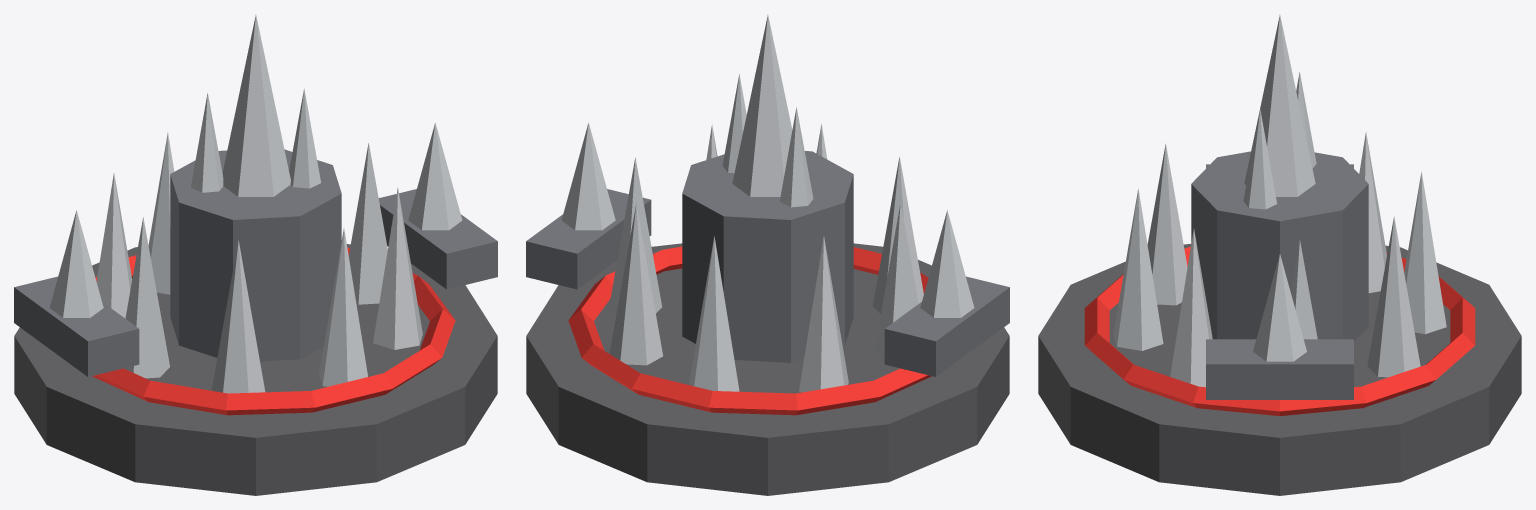
File: TD_SpikeTower_T1.fbx
3 views of the same model, side by side, from view 1: azimuth 30°, elevation 25°; view 2: azimuth 150°, elevation 25°; view 3: azimuth 270°, elevation 25° (orthographic).
Parts seen in each view (by area): view 1: TD_SpikeTower_T1_Base, TD_SpikeTower_T1_Core, TD_SpikeTower_T1_WarningRing, TD_SpikeTower_T1_CenterSpike_01, TD_SpikeTower_T1_SpikePlate_Left, TD_SpikeTower_T1_SpikePlate_Right, TD_SpikeTower_T1_Spike_08, TD_SpikeTower_T1_Spike_06, TD_SpikeTower_T1_Spike_07, TD_SpikeTower_T1_Spike_01, TD_SpikeTower_T1_Spike_05, TD_SpikeTower_T1_SpikePlate_Right_Spike (+5 smaller); view 2: TD_SpikeTower_T1_Base, TD_SpikeTower_T1_Core, TD_SpikeTower_T1_WarningRing, TD_SpikeTower_T1_SpikePlate_Left, TD_SpikeTower_T1_CenterSpike_01, TD_SpikeTower_T1_SpikePlate_Right, TD_SpikeTower_T1_Spike_02, TD_SpikeTower_T1_Spike_03, TD_SpikeTower_T1_Spike_04, TD_SpikeTower_T1_SpikePlate_Right_Spike, TD_SpikeTower_T1_SpikePlate_Left_Spike, TD_SpikeTower_T1_Spike_05 (+4 smaller); view 3: TD_SpikeTower_T1_Base, TD_SpikeTower_T1_Core, TD_SpikeTower_T1_WarningRing, TD_SpikeTower_T1_SpikePlate_Right, TD_SpikeTower_T1_CenterSpike_01, TD_SpikeTower_T1_Spike_02, TD_SpikeTower_T1_Spike_07, TD_SpikeTower_T1_Spike_06, TD_SpikeTower_T1_Spike_03, TD_SpikeTower_T1_Spike_08, TD_SpikeTower_T1_SpikePlate_Right_Spike, TD_SpikeTower_T1_Spike_04 (+3 smaller).
Boxes of the visible parts, left/top/right/bottom form: TD_SpikeTower_T1_Base: left=14, top=244, right=497, bottom=495; TD_SpikeTower_T1_Core: left=170, top=149, right=341, bottom=361; TD_SpikeTower_T1_WarningRing: left=92, top=247, right=455, bottom=415; TD_SpikeTower_T1_CenterSpike_01: left=222, top=15, right=290, bottom=196; TD_SpikeTower_T1_SpikePlate_Left: left=14, top=276, right=139, bottom=376; TD_SpikeTower_T1_SpikePlate_Right: left=378, top=189, right=497, bottom=289; TD_SpikeTower_T1_Spike_08: left=373, top=187, right=422, bottom=349; TD_SpikeTower_T1_Spike_06: left=211, top=240, right=265, bottom=393; TD_SpikeTower_T1_Spike_07: left=319, top=228, right=367, bottom=386; TD_SpikeTower_T1_Spike_01: left=348, top=143, right=387, bottom=304; TD_SpikeTower_T1_Spike_05: left=124, top=217, right=169, bottom=378; TD_SpikeTower_T1_SpikePlate_Right_Spike: left=408, top=123, right=462, bottom=230; TD_SpikeTower_T1_Base: left=526, top=243, right=1009, bottom=495; TD_SpikeTower_T1_Core: left=682, top=151, right=853, bottom=362; TD_SpikeTower_T1_WarningRing: left=568, top=246, right=931, bottom=415; TD_SpikeTower_T1_SpikePlate_Left: left=884, top=276, right=1009, bottom=376; TD_SpikeTower_T1_CenterSpike_01: left=732, top=15, right=792, bottom=196; TD_SpikeTower_T1_SpikePlate_Right: left=526, top=189, right=651, bottom=289; TD_SpikeTower_T1_Spike_02: left=609, top=204, right=662, bottom=365; TD_SpikeTower_T1_Spike_03: left=689, top=236, right=739, bottom=391; TD_SpikeTower_T1_Spike_04: left=799, top=235, right=848, bottom=392; TD_SpikeTower_T1_SpikePlate_Right_Spike: left=561, top=123, right=615, bottom=230; TD_SpikeTower_T1_SpikePlate_Left_Spike: left=920, top=210, right=974, bottom=317; TD_SpikeTower_T1_Spike_05: left=873, top=203, right=918, bottom=361; TD_SpikeTower_T1_Base: left=1038, top=243, right=1521, bottom=495; TD_SpikeTower_T1_Core: left=1191, top=151, right=1368, bottom=341; TD_SpikeTower_T1_WarningRing: left=1084, top=246, right=1475, bottom=416; TD_SpikeTower_T1_SpikePlate_Right: left=1206, top=339, right=1353, bottom=399; TD_SpikeTower_T1_CenterSpike_01: left=1244, top=15, right=1315, bottom=196; TD_SpikeTower_T1_Spike_02: left=1367, top=216, right=1420, bottom=377; TD_SpikeTower_T1_Spike_07: left=1113, top=188, right=1163, bottom=350; TD_SpikeTower_T1_Spike_06: left=1147, top=143, right=1187, bottom=305; TD_SpikeTower_T1_Spike_03: left=1404, top=172, right=1446, bottom=334; TD_SpikeTower_T1_Spike_08: left=1170, top=228, right=1212, bottom=387; TD_SpikeTower_T1_SpikePlate_Right_Spike: left=1253, top=254, right=1306, bottom=361; TD_SpikeTower_T1_Spike_04: left=1359, top=132, right=1386, bottom=293.
Bounding box in the file's own units: 0.98 × 0.85 × 0.98.
